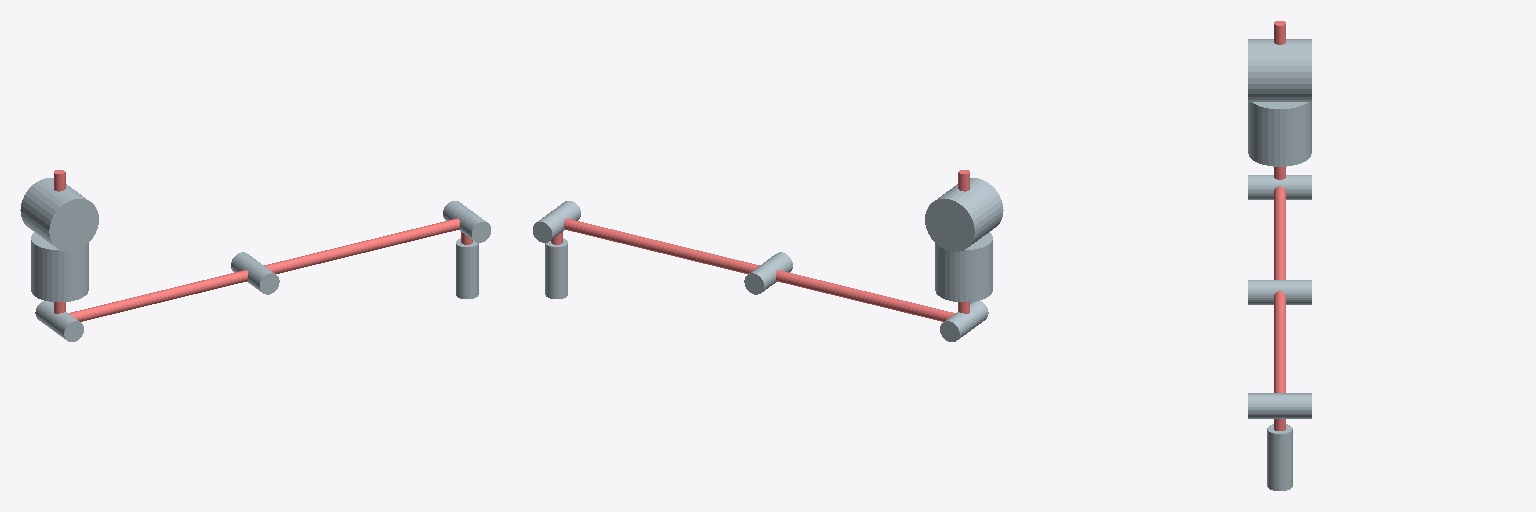
robot.urdf — GenericDH:
<robot name='GenericDH'>
	<material name='blue'>
		<color rgba='0 0 0.8 1'/>
	</material>
	<material name='red'>
		<color rgba='0.8 0 0 1'/>
	</material>
	<link name='a0'>
		<visual>
			<origin rpy='-0.0 0.0 0.0' xyz='0.0 0.0 0.0'/>
			<geometry>
				<cylinder length='0.1' radius='0.02'/>
			</geometry>
			<material name='blue'><color rgba='0.73 0.79 0.82 1'/></material>
		</visual>
	</link>
	<link name='l0'>
		<visual>
			<origin rpy='-0.0 0.0 0.0' xyz='0.0 0.0 0.0447295'/>
			<geometry>
				<cylinder length='0.089459' radius='0.01'/>
			</geometry>
			<material name='grey'><color rgba='0.99 0.54 0.54 1'/></material>
		</visual>
	</link>
	<joint name='move_l0_from_a0' type='continuous'>
		<parent link='a0'/>
		<child link='l0'/>
		<axis xyz='0.0 0.0 1.0'/>
		<origin rpy='0 0 0' xyz='0.0 0.0 0.0'/>
	</joint>
	<link name='a1'>
		<visual>
			<origin rpy='1.571 0.0 0.0' xyz='0.0 0.0 0.089459'/>
			<geometry>
				<cylinder length='0.1' radius='0.02'/>
			</geometry>
			<material name='blue'><color rgba='0.73 0.79 0.82 1'/></material>
		</visual>
	</link>
	<joint name='fix_a1_to_l0' type='fixed'>
		<parent link='l0'/>
		<child link='a1'/>
		<origin rpy='0 0 0' xyz='0 0 0'/>
	</joint>
	<link name='l1'>
		<visual>
			<origin rpy='-0.0 -1.571 0.0' xyz='-0.2125 -0.0 0.0'/>
			<geometry>
				<cylinder length='0.425' radius='0.01'/>
			</geometry>
			<material name='grey'><color rgba='0.99 0.54 0.54 1'/></material>
		</visual>
	</link>
	<joint name='move_l1_from_a1' type='continuous'>
		<parent link='a1'/>
		<child link='l1'/>
		<axis xyz='0.0 -1.0 0.0'/>
		<origin rpy='0 0 0' xyz='0.0 0.0 0.089459'/>
	</joint>
	<link name='a2'>
		<visual>
			<origin rpy='1.571 0.0 0.0' xyz='-0.425 -0.0 0.0'/>
			<geometry>
				<cylinder length='0.1' radius='0.02'/>
			</geometry>
			<material name='blue'><color rgba='0.73 0.79 0.82 1'/></material>
		</visual>
	</link>
	<joint name='fix_a2_to_l1' type='fixed'>
		<parent link='l1'/>
		<child link='a2'/>
		<origin rpy='0 0 0' xyz='0 0 0'/>
	</joint>
	<link name='l2'>
		<visual>
			<origin rpy='-0.0 -1.571 0.0' xyz='-0.196125 -0.0 0.0'/>
			<geometry>
				<cylinder length='0.39225' radius='0.01'/>
			</geometry>
			<material name='grey'><color rgba='0.99 0.54 0.54 1'/></material>
		</visual>
	</link>
	<joint name='move_l2_from_a2' type='continuous'>
		<parent link='a2'/>
		<child link='l2'/>
		<axis xyz='0.0 -1.0 0.0'/>
		<origin rpy='0 0 0' xyz='-0.425 -0.0 0.0'/>
	</joint>
	<link name='a3'>
		<visual>
			<origin rpy='1.571 0.0 0.0' xyz='-0.39225 -0.0 0.0'/>
			<geometry>
				<cylinder length='0.1' radius='0.02'/>
			</geometry>
			<material name='blue'><color rgba='0.73 0.79 0.82 1'/></material>
		</visual>
	</link>
	<joint name='fix_a3_to_l2' type='fixed'>
		<parent link='l2'/>
		<child link='a3'/>
		<origin rpy='0 0 0' xyz='0 0 0'/>
	</joint>
	<link name='l3'>
		<visual>
			<origin rpy='-0.0 0.0 0.0' xyz='0.0 0.0 0.054575'/>
			<geometry>
				<cylinder length='0.10915' radius='0.01'/>
			</geometry>
			<material name='grey'><color rgba='0.99 0.54 0.54 1'/></material>
		</visual>
	</link>
	<joint name='move_l3_from_a3' type='continuous'>
		<parent link='a3'/>
		<child link='l3'/>
		<axis xyz='0.0 -1.0 0.0'/>
		<origin rpy='0 0 0' xyz='-0.39225 -0.0 0.0'/>
	</joint>
	<link name='a4'>
		<visual>
			<origin rpy='3.142 0.0 0.0' xyz='0.0 0.0 0.10915'/>
			<geometry>
				<cylinder length='0.1' radius='0.05'/>
			</geometry>
			<material name='blue'><color rgba='0.73 0.79 0.82 1'/></material>
		</visual>
	</link>
	<joint name='fix_a4_to_l3' type='fixed'>
		<parent link='l3'/>
		<child link='a4'/>
		<origin rpy='0 0 0' xyz='0 0 0'/>
	</joint>
	<link name='l4'>
		<visual>
			<origin rpy='-0.0 0.0 0.0' xyz='0.0 0.0 0.047325'/>
			<geometry>
				<cylinder length='0.09465' radius='0.01'/>
			</geometry>
			<material name='grey'><color rgba='0.99 0.54 0.54 1'/></material>
		</visual>
	</link>
	<joint name='move_l4_from_a4' type='continuous'>
		<parent link='a4'/>
		<child link='l4'/>
		<axis xyz='0.0 -1.2246467991473532e-16 -1.0'/>
		<origin rpy='0 0 0' xyz='0.0 0.0 0.10915'/>
	</joint>
	<link name='a5'>
		<visual>
			<origin rpy='1.571 0.0 0.0' xyz='0.0 0.0 0.09465'/>
			<geometry>
				<cylinder length='0.1' radius='0.05'/>
			</geometry>
			<material name='blue'><color rgba='0.73 0.79 0.82 1'/></material>
		</visual>
	</link>
	<joint name='fix_a5_to_l4' type='fixed'>
		<parent link='l4'/>
		<child link='a5'/>
		<origin rpy='0 0 0' xyz='0 0 0'/>
	</joint>
	<link name='l5'>
		<visual>
			<origin rpy='-0.0 0.0 0.0' xyz='0.0 0.0 0.04115'/>
			<geometry>
				<cylinder length='0.0823' radius='0.01'/>
			</geometry>
			<material name='grey'><color rgba='0.99 0.54 0.54 1'/></material>
		</visual>
	</link>
	<joint name='move_l5_from_a5' type='continuous'>
		<parent link='a5'/>
		<child link='l5'/>
		<axis xyz='0.0 -1.0 0.0'/>
		<origin rpy='0 0 0' xyz='0.0 0.0 0.09465'/>
	</joint>
</robot>

--- Render facts (derived) ---
The picture shows the robot from 3 angles, left to right: view 1: azimuth 30°, elevation 25°; view 2: azimuth 150°, elevation 25°; view 3: azimuth 270°, elevation 25°; orthographic projection.
Model GenericDH with 12 links and 11 joints (6 continuous, 5 fixed), rooted at a0, posed all joints at 0.
Links seen in each view (by area): view 1: a5, a4, l1, l2, a0, a2, a3, a1; view 2: a5, a4, l1, l2, a0, a2, a3, a1; view 3: a5, a4, a1, a0, a2, a3, l1, l2.
Boxes of the visible links, x1=… form: a5: x1=20, y1=178, x2=98, y2=251; a4: x1=31, y1=232, x2=88, y2=301; l1: x1=264, y1=218, x2=459, y2=273; l2: x1=69, y1=270, x2=247, y2=321; a0: x1=456, y1=238, x2=478, y2=298; a2: x1=231, y1=252, x2=279, y2=294; a3: x1=35, y1=301, x2=83, y2=341; a1: x1=443, y1=201, x2=490, y2=242; a5: x1=925, y1=178, x2=1003, y2=251; a4: x1=935, y1=232, x2=992, y2=301; l1: x1=564, y1=218, x2=759, y2=273; l2: x1=776, y1=270, x2=954, y2=321; a0: x1=545, y1=238, x2=567, y2=298; a2: x1=744, y1=252, x2=792, y2=294; a3: x1=940, y1=301, x2=988, y2=341; a1: x1=533, y1=201, x2=580, y2=242; a5: x1=1248, y1=39, x2=1311, y2=101; a4: x1=1248, y1=102, x2=1311, y2=166; a1: x1=1248, y1=393, x2=1311, y2=418; a0: x1=1267, y1=424, x2=1292, y2=490; a2: x1=1248, y1=280, x2=1311, y2=304; a3: x1=1248, y1=175, x2=1311, y2=199; l1: x1=1274, y1=291, x2=1285, y2=392; l2: x1=1274, y1=186, x2=1285, y2=279.
Size in the robot's own frame: 0.8873 by 0.1 by 0.4256 metres.
Geometry: primitives only (box / cylinder / sphere), no mesh files.